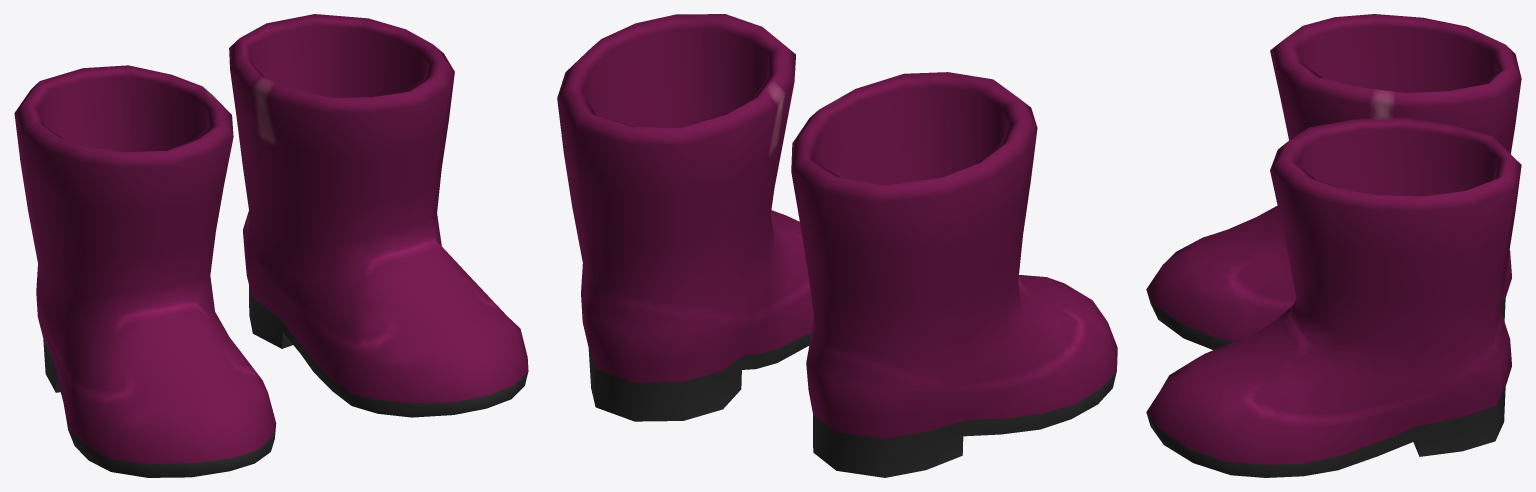
Rendered from ShoesKneeVelour0.glb.
3 renders of one model, left to right at view 1: azimuth 30°, elevation 25°; view 2: azimuth 150°, elevation 25°; view 3: azimuth 270°, elevation 25°, orthographic. The views are drawn at different scales.
Parts seen in each view (by area): view 1: Body__mShoes; view 2: Body__mShoes; view 3: Body__mShoes.
Part boxes in pixels (<box>): Body__mShoes: <box>14,14,528,477</box>; Body__mShoes: <box>557,14,1117,477</box>; Body__mShoes: <box>1146,14,1521,477</box>.
Bounding box in the file's own units: 3.37 × 2.14 × 2.62.
Materials: 1 (1 with a texture image).
